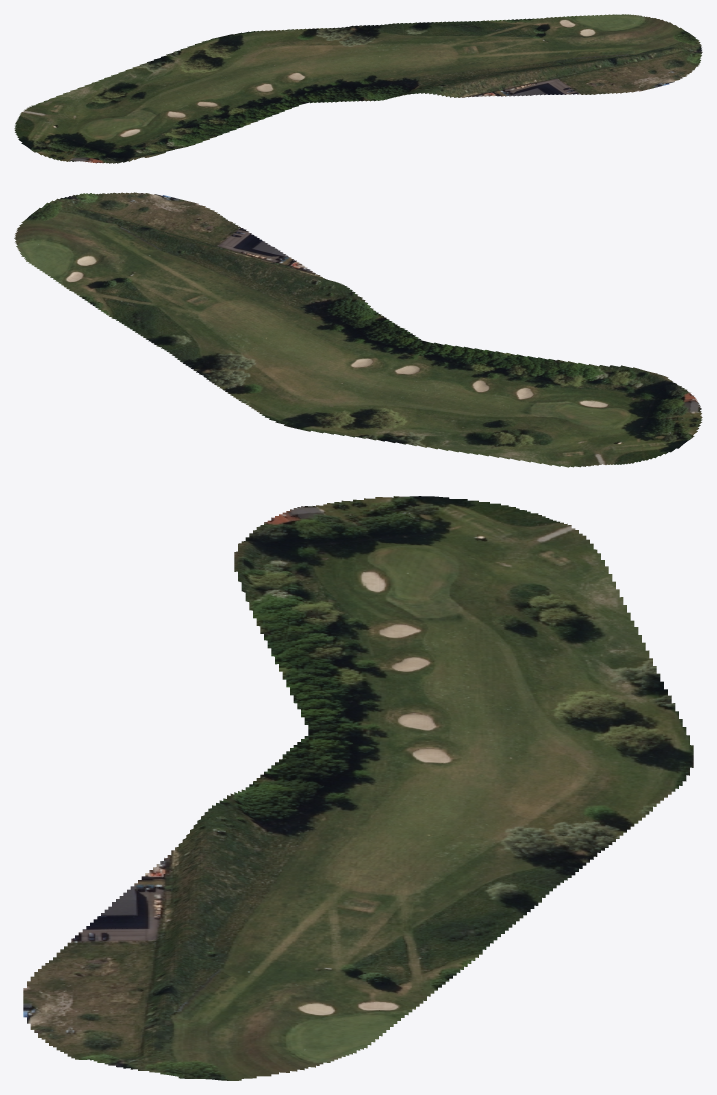
The model's file is yellow_7.glb.
The picture shows the model from 3 angles, top to bottom: view 1: azimuth 30°, elevation 25°; view 2: azimuth 150°, elevation 25°; view 3: azimuth 270°, elevation 25°; orthographic projection. The views are drawn at different scales.
Visible parts, largest first — view 1: ground; view 2: ground; view 3: ground.
Part boxes in pixels (bbox=[...]): ground: bbox=[14, 14, 702, 163]; ground: bbox=[14, 192, 702, 467]; ground: bbox=[23, 496, 693, 1080].
Bounding box in the file's own units: 379 × 7.89 × 181.
Materials: 1 (1 with a texture image).
